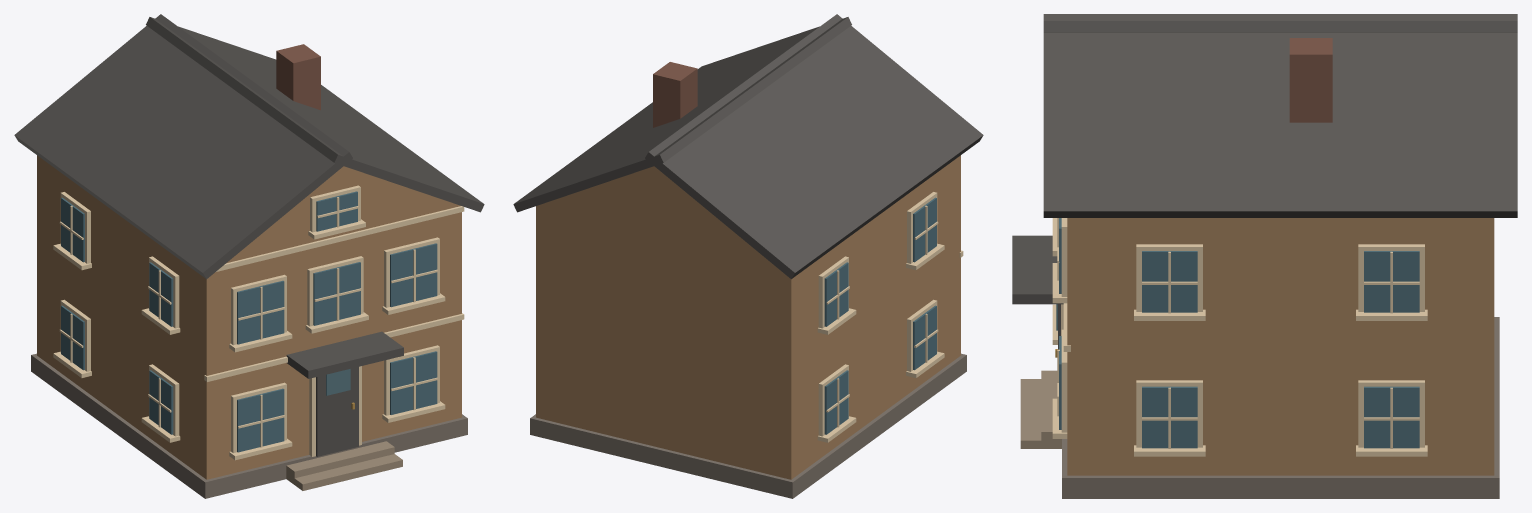
Rendered from ochre_townhouse.glb.
3 renders of one model, left to right at view 1: azimuth 30°, elevation 25°; view 2: azimuth 150°, elevation 25°; view 3: azimuth 270°, elevation 25°, orthographic. The views are drawn at different scales.
Parts seen in each view (by area): view 1: Main building, Sloping roof, Sloping roof.001, Stone foundation, Gable walls, Entry canopy, Door, Blue glazing.001, Blue glazing.007, Chimney, Blue glazing.008, Blue glazing.009 (+22 smaller); view 2: Main building, Sloping roof, Sloping roof.001, Stone foundation, Gable walls, Chimney, Blue glazing.011, Blue glazing.004, Blue glazing.003, Blue glazing.010, Window surround.004, Window surround.011 (+2 smaller); view 3: Main building, Sloping roof.001, Stone foundation, Sloping roof, Chimney, Blue glazing.005, Blue glazing.006, Blue glazing.012, Blue glazing.013, Entry canopy, Front step.001, Window surround.005 (+10 smaller).
Part boxes in pixels (x1,y1,x2,y2): Main building: (37, 155, 461, 479); Sloping roof: (14, 14, 352, 279); Sloping roof.001: (146, 17, 484, 212); Stone foundation: (31, 353, 467, 498); Gable walls: (232, 166, 454, 258); Entry canopy: (286, 331, 403, 378); Door: (316, 367, 358, 456); Blue glazing.001: (237, 388, 284, 452); Blue glazing.007: (237, 280, 284, 344); Chimney: (276, 44, 320, 110); Blue glazing.008: (313, 262, 360, 325); Blue glazing.009: (390, 243, 437, 307); Main building: (536, 155, 960, 479); Sloping roof: (645, 14, 983, 279); Sloping roof.001: (513, 17, 851, 212); Stone foundation: (530, 353, 966, 498); Gable walls: (543, 166, 765, 258); Chimney: (653, 62, 697, 127); Blue glazing.011: (824, 262, 848, 326); Blue glazing.004: (824, 370, 848, 434); Blue glazing.003: (913, 305, 936, 370); Blue glazing.010: (913, 197, 936, 262); Window surround.004: (818, 364, 848, 436); Window surround.011: (818, 256, 848, 328); Main building: (1067, 218, 1494, 475); Sloping roof.001: (1043, 14, 1517, 217); Stone foundation: (1062, 317, 1499, 498); Sloping roof: (1043, 21, 1517, 32); Chimney: (1289, 38, 1332, 122); Blue glazing.005: (1142, 386, 1197, 448); Blue glazing.006: (1364, 386, 1419, 448); Blue glazing.012: (1142, 251, 1197, 312); Blue glazing.013: (1364, 251, 1419, 312); Entry canopy: (1012, 235, 1063, 304); Front step.001: (1020, 379, 1041, 448); Window surround.005: (1136, 380, 1202, 447).
Size of the model in its own units: 6.75 by 7.46 by 8.34.
